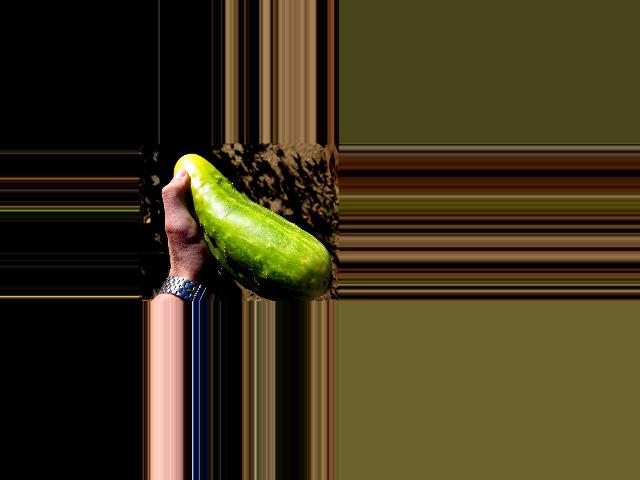cucumber: (173, 154, 333, 302)
